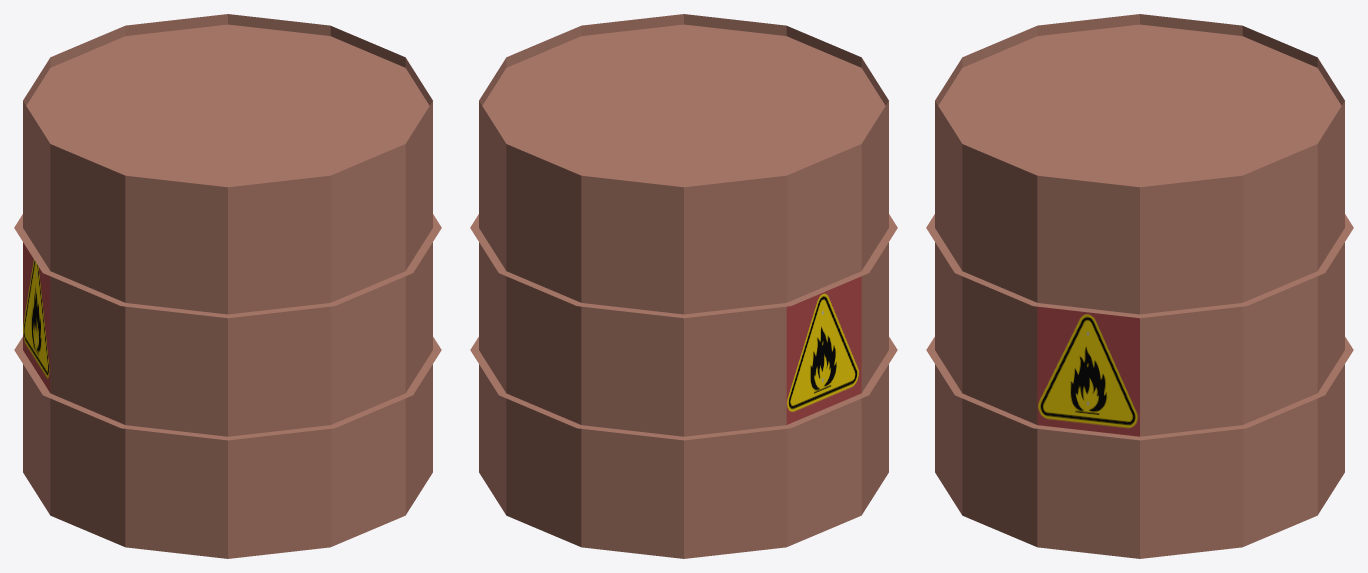
Rendered from oilbarrel.glb.
3 views of the same model, side by side, from view 1: azimuth 30°, elevation 25°; view 2: azimuth 150°, elevation 25°; view 3: azimuth 270°, elevation 25° (orthographic).
Parts seen in each view (by area): view 1: Cylinder; view 2: Cylinder; view 3: Cylinder.
Boxes of the visible parts, <box> form: Cylinder: <box>14,14,441,558</box>; Cylinder: <box>470,14,897,558</box>; Cylinder: <box>926,14,1353,558</box>.
Bounding box in the file's own units: 1.04 × 1 × 1.04.
2 materials, 1 textured.
